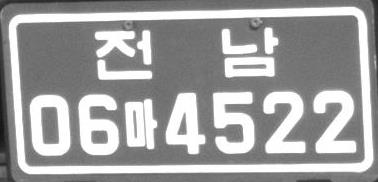0: (28, 93, 71, 156)
2: (312, 88, 357, 154), (262, 90, 306, 154)
4: (164, 91, 205, 154)
5: (211, 91, 255, 155)
6: (77, 93, 120, 156)
마: (122, 97, 157, 150)
전남_D: (94, 26, 279, 81)
